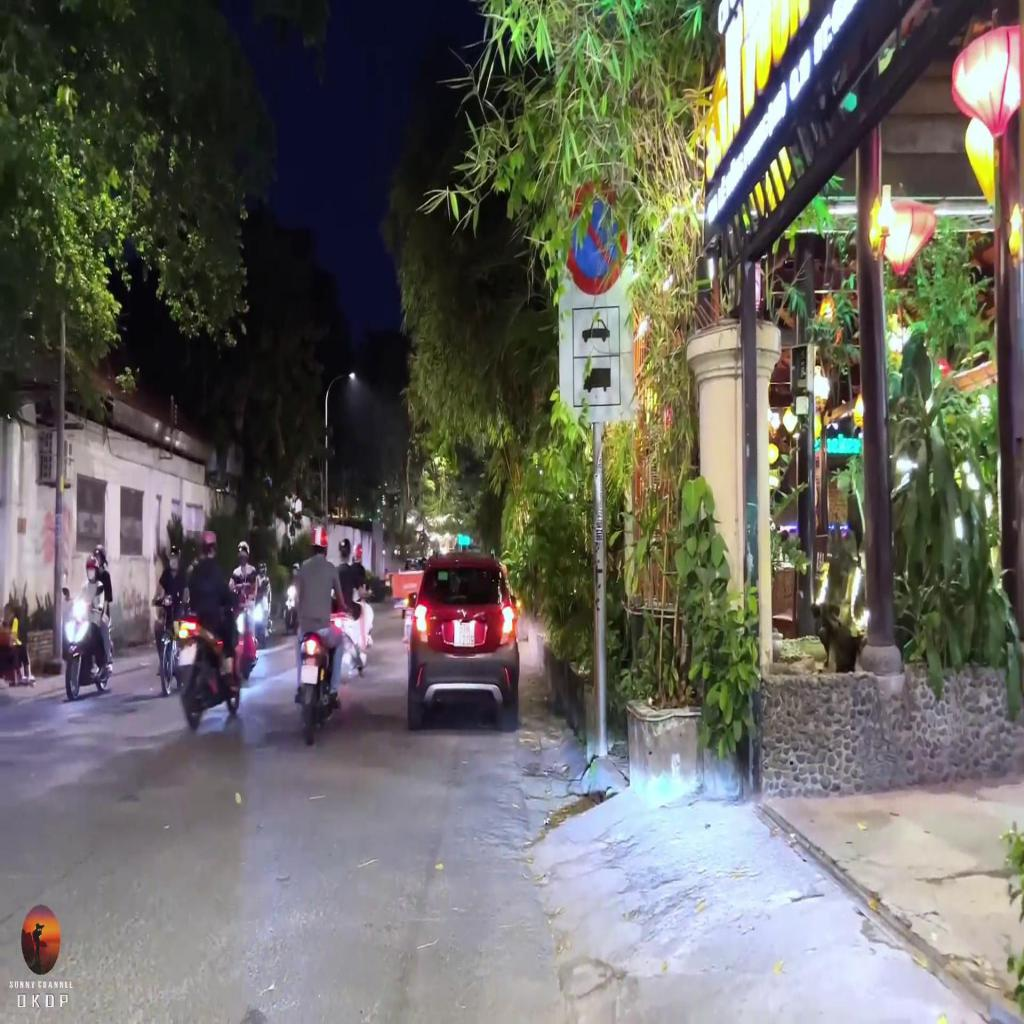cam_do_xe: (563, 179, 628, 295)
khac: (573, 356, 621, 407), (572, 306, 619, 358)
